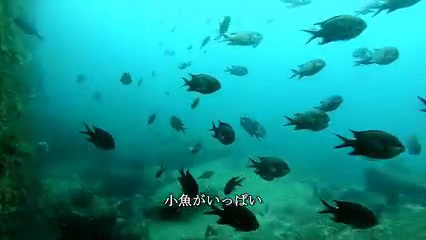mezina: (333, 119, 411, 164), (313, 187, 382, 229), (294, 12, 367, 46), (208, 198, 265, 233), (182, 63, 232, 99), (79, 116, 120, 157), (244, 153, 296, 185), (278, 107, 339, 131), (208, 116, 239, 150), (288, 56, 328, 79)
smallfish: (222, 29, 272, 53), (234, 113, 272, 141), (167, 113, 190, 137), (222, 60, 249, 80)
